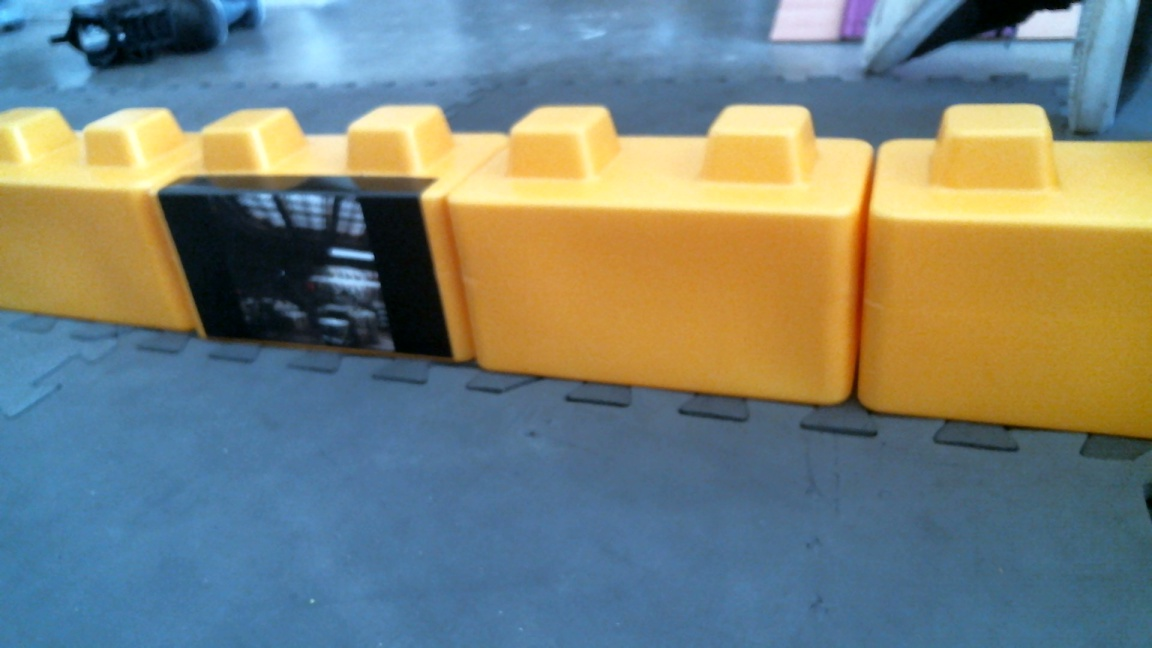center: (1, 91, 859, 409)
left: (177, 92, 1147, 437)
